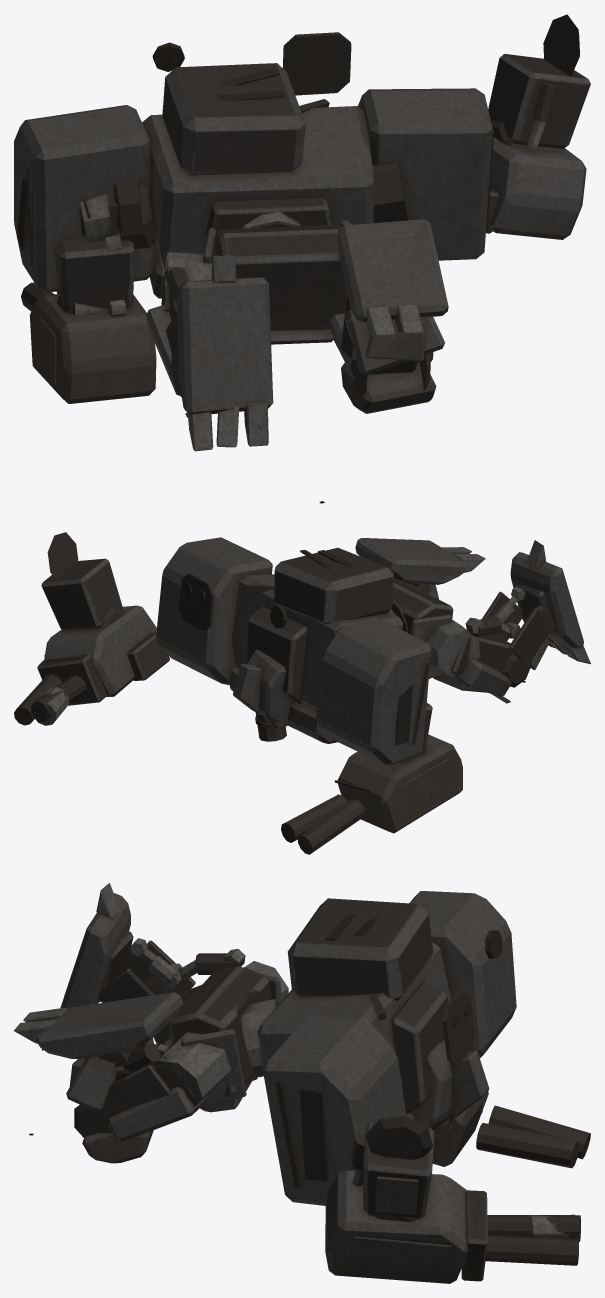
The model's file is chs_juggernaut_wreck.fbx.
3 renders of one model, top to bottom at view 1: azimuth 30°, elevation 25°; view 2: azimuth 150°, elevation 25°; view 3: azimuth 270°, elevation 25°, orthographic. The views are drawn at different scales.
Parts seen in each view (by area): view 1: torso_bar, gunL_bar, gunR_bar, footL_bar, base_bar, footR_bar, thighR_bar, missile_pod_bar, shinR_bar, thighL_bar; view 2: torso_bar, gunR_bar, gunL_bar, thighL_bar, footL_bar, footR_bar, ray_arm_bar, shinL_bar, base_bar, missile_pod_bar; view 3: torso_bar, gunR_bar, thighR_bar, footR_bar, base_bar, gunL_bar, footL_bar, ray_arm_bar, shinL_bar, shinR_bar, thighL_bar, missile_pod_bar.
Boxes of the visible parts, left/top/right/bottom form: torso_bar: left=14, top=42, right=493, bottom=298; gunL_bar: left=21, top=193, right=156, bottom=403; gunR_bar: left=486, top=14, right=590, bottom=239; footL_bar: left=177, top=255, right=273, bottom=451; base_bar: left=203, top=220, right=352, bottom=344; footR_bar: left=337, top=219, right=448, bottom=336; thighR_bar: left=330, top=313, right=436, bottom=413; missile_pod_bar: left=282, top=32, right=351, bottom=95; shinR_bar: left=341, top=294, right=444, bottom=375; thighL_bar: left=146, top=252, right=218, bottom=417; torso_bar: left=156, top=537, right=431, bottom=765; gunR_bar: left=14, top=532, right=169, bottom=725; gunL_bar: left=281, top=703, right=462, bottom=854; thighL_bar: left=425, top=616, right=531, bottom=703; footL_bar: left=510, top=540, right=590, bottom=664; footR_bar: left=355, top=538, right=485, bottom=587; ray_arm_bar: left=233, top=649, right=294, bottom=741; shinL_bar: left=482, top=586, right=551, bottom=669; base_bar: left=391, top=578, right=453, bottom=678; missile_pod_bar: left=179, top=573, right=214, bottom=630; torso_bar: left=240, top=891, right=516, bottom=1205; gunR_bar: left=325, top=1115, right=580, bottom=1283; thighR_bar: left=74, top=1032, right=231, bottom=1163; footR_bar: left=14, top=992, right=183, bottom=1080; base_bar: left=168, top=966, right=281, bottom=1112; gunL_bar: left=432, top=1091, right=590, bottom=1168; footL_bar: left=42, top=883, right=150, bottom=1050; ray_arm_bar: left=410, top=1040, right=489, bottom=1159; shinL_bar: left=98, top=938, right=195, bottom=1002; shinR_bar: left=66, top=1044, right=169, bottom=1110; thighL_bar: left=153, top=949, right=288, bottom=1047; missile_pod_bar: left=442, top=989, right=474, bottom=1065.
Size of the model in its own units: 2918 by 1510 by 2753.
Materials: 2 (2 with a texture image).
